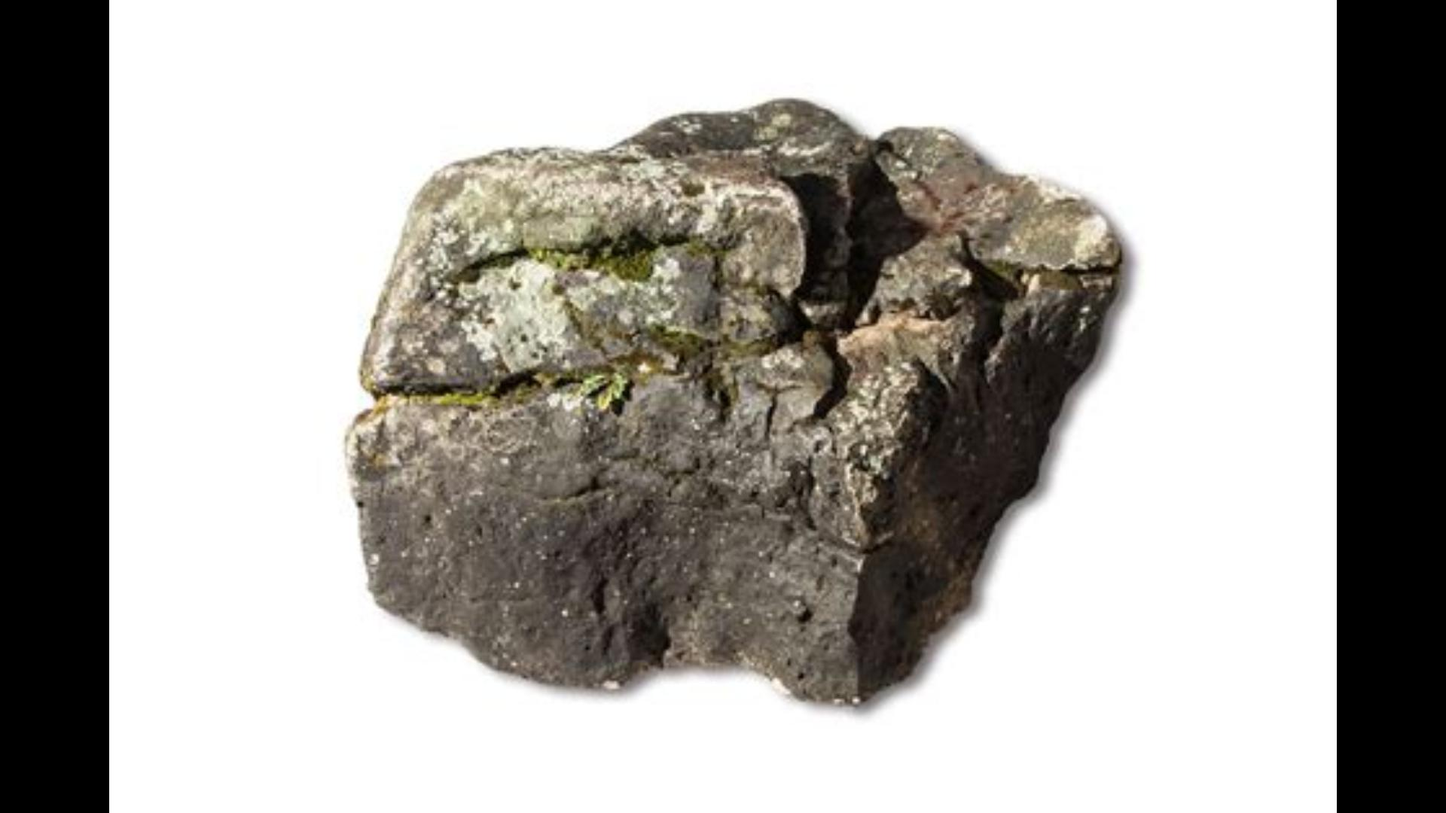rock: (348, 101, 1122, 699)
